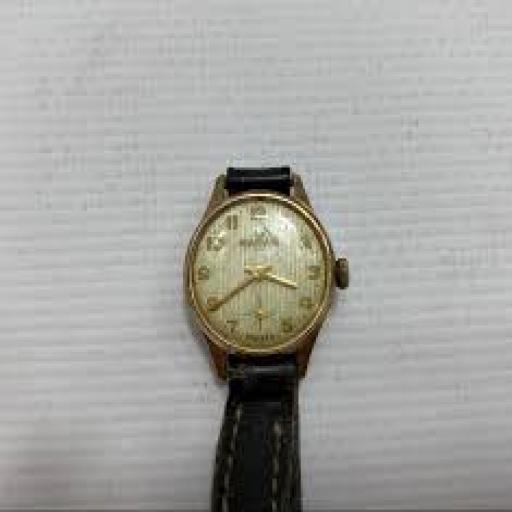KolSaati: (170, 127, 349, 512)
